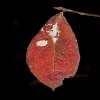Blueberry leaf: (23, 10, 83, 91)
